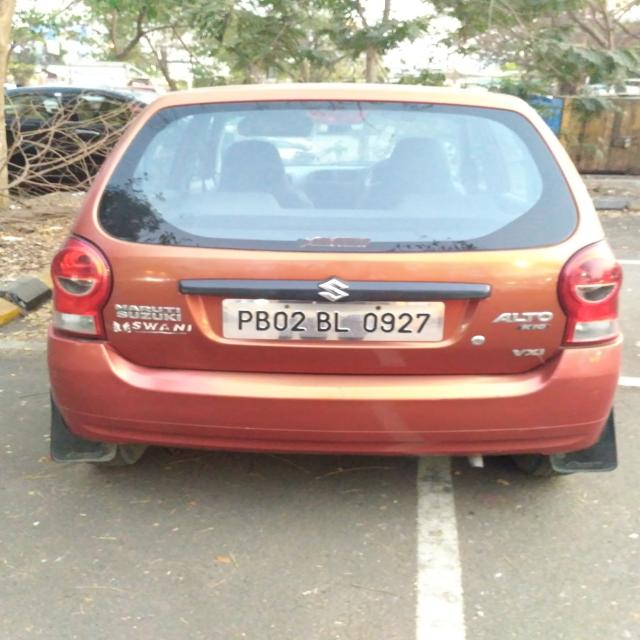Number-Plate: (222, 302, 442, 342)
